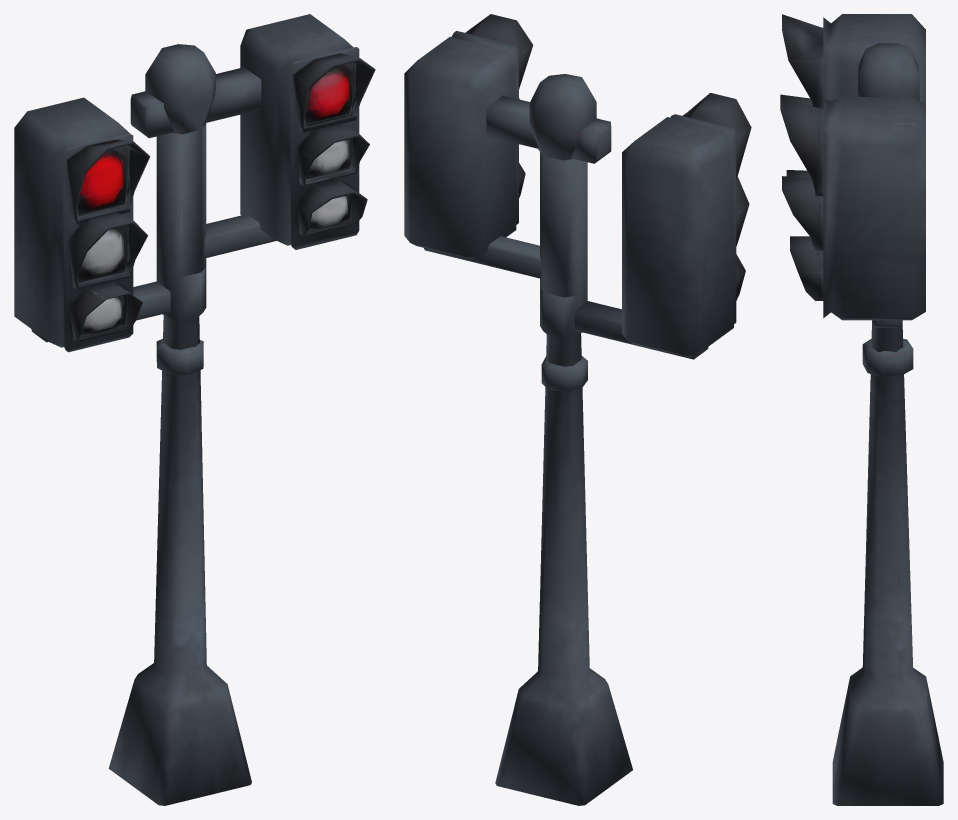
Rendered from traffic_light.glb.
3 views of the same model, side by side, from view 1: azimuth 30°, elevation 25°; view 2: azimuth 150°, elevation 25°; view 3: azimuth 270°, elevation 25° (orthographic). The views are drawn at different scales.
Parts seen in each view (by area): view 1: tripo_node_f2238f60-ae2c-4424-a6eb-c79ca32d98f8; view 2: tripo_node_f2238f60-ae2c-4424-a6eb-c79ca32d98f8; view 3: tripo_node_f2238f60-ae2c-4424-a6eb-c79ca32d98f8.
Part boxes in pixels (left/top/right/bottom): tripo_node_f2238f60-ae2c-4424-a6eb-c79ca32d98f8: left=14, top=14, right=375, bottom=805; tripo_node_f2238f60-ae2c-4424-a6eb-c79ca32d98f8: left=404, top=14, right=751, bottom=805; tripo_node_f2238f60-ae2c-4424-a6eb-c79ca32d98f8: left=780, top=14, right=943, bottom=805.
Size of the model in its own units: 0.4434 by 0.998 by 0.2012.
Materials: 1 (1 with a texture image).
